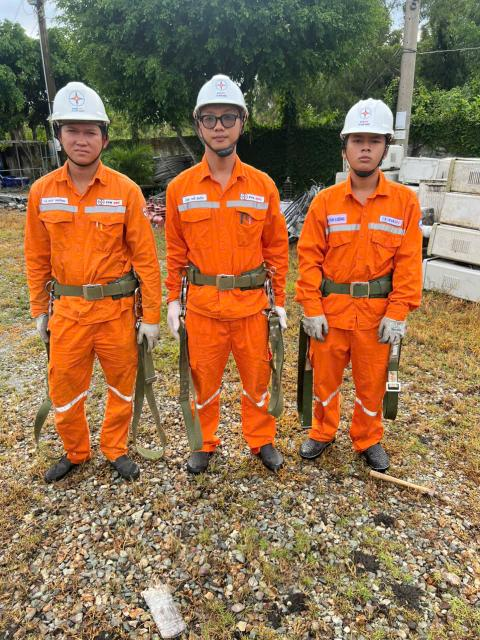gloves: (288, 298, 336, 348), (130, 308, 174, 359), (363, 317, 407, 351), (33, 306, 62, 353), (156, 301, 195, 334), (267, 297, 295, 333)
harness: (173, 254, 279, 315), (310, 261, 402, 312), (40, 274, 155, 308)
helmet: (38, 77, 129, 132), (330, 87, 407, 144), (179, 71, 251, 122)
shoes: (40, 444, 94, 491), (363, 429, 402, 482), (96, 437, 140, 481), (292, 426, 338, 467), (178, 436, 217, 473), (253, 435, 286, 475)
